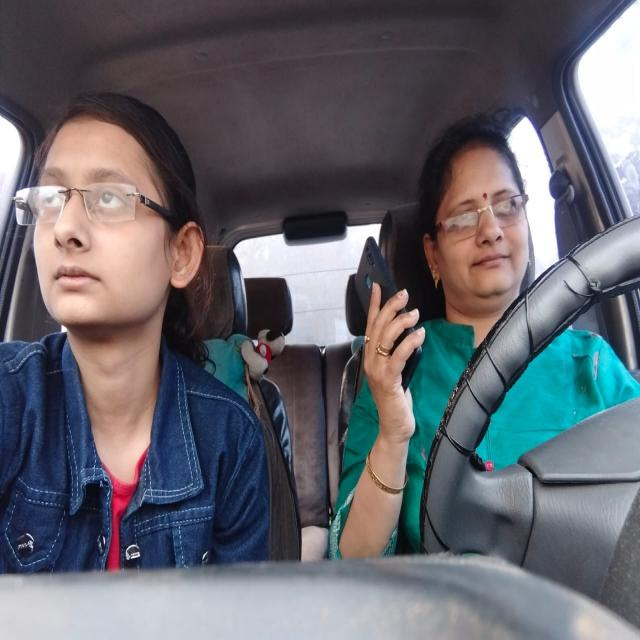mobile: (352, 235, 422, 392)
person: (17, 109, 206, 336), (418, 119, 540, 304)
